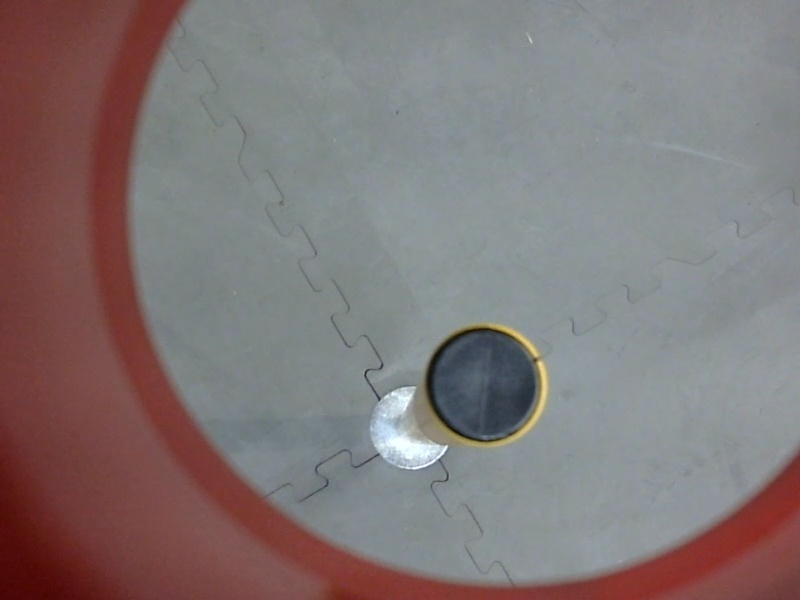tip: (418, 314, 556, 457)
